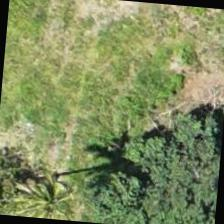Kelapa_Sawit: (6, 155, 102, 222)
